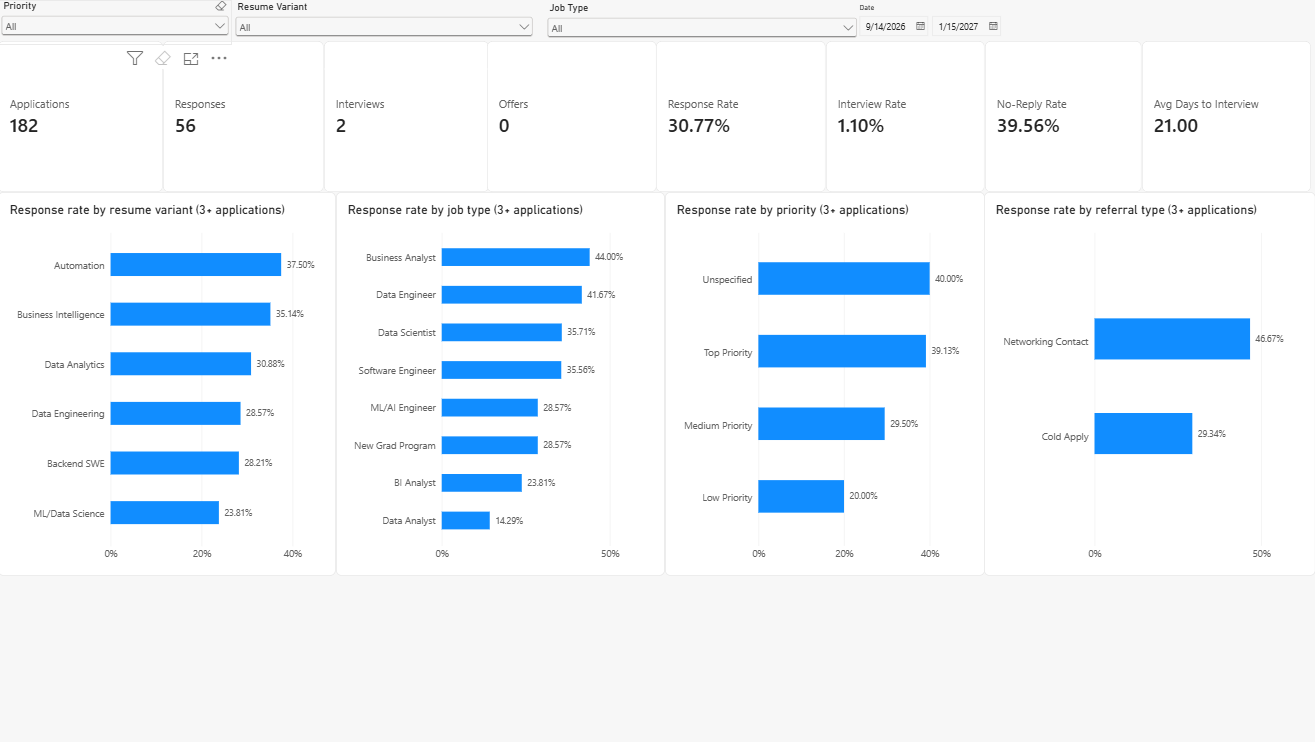

The page's visual inventory and layout, read from the dashboard file:
{"tool":"powerbi","page":{"name":"Performance","canvas":[1920,1080],"ordinal":1},"visuals":[{"type":"cardVisual","fields":{"Data":["fact_application.Applications"]},"box":[0,59.3,240.2,220.9],"z":0},{"type":"cardVisual","fields":{"Data":["fact_application.Avg Days to Interview"]},"box":[1666.5,59.3,246.1,220.9],"z":1000},{"type":"cardVisual","fields":{"Data":["fact_application.Responses"]},"box":[240.2,59.3,234.3,220.9],"z":2000},{"type":"cardVisual","fields":{"Data":["fact_application.Interviews"]},"box":[474.4,59.3,240.2,220.9],"z":3000},{"type":"cardVisual","fields":{"Data":["fact_application.Offers"]},"box":[711.7,59.3,247.6,220.9],"z":4000},{"type":"cardVisual","fields":{"Data":["fact_application.Response Rate"]},"box":[959.3,59.3,247.6,220.9],"z":5000},{"type":"cardVisual","fields":{"Data":["fact_application.Interview Rate"]},"box":[1206.9,59.3,231.3,220.9],"z":6000},{"type":"cardVisual","fields":{"Data":["fact_application.No-Reply Rate"]},"box":[1438.1,59.3,228.3,220.9],"z":7000},{"type":"slicer","fields":{"Values":["dim_priority.priority"]},"box":[0,0,341,65.2],"z":8000},{"type":"slicer","fields":{"Values":["dim_resume_variant.resume_variant"]},"box":[341,1.5,443.3,62.3],"z":9000},{"type":"slicer","fields":{"Values":["dim_job_type.job_type"]},"box":[794.7,3,461.1,62.3],"z":10000},{"type":"slicer","fields":{"Values":["dim_date.date"]},"box":[1246.9,4.4,665.7,54.9],"z":11000},{"type":"clusteredBarChart","title":"Response rate by resume variant (3+ applications)","fields":{"Category":["dim_resume_variant.resume_variant"],"Y":["fact_application.Response Rate"]},"box":[0,279.7,492.4,559.4],"z":12000},{"type":"clusteredBarChart","title":"Response rate by job type  (3+ applications)","fields":{"Category":["dim_job_type.job_type"],"Y":["fact_application.Response Rate"]},"box":[492.2,280.2,478.9,558.9],"z":13000},{"type":"clusteredBarChart","title":"Response rate by priority (3+ applications)","fields":{"Category":["dim_priority.priority"],"Y":["fact_application.Response Rate"]},"box":[971.1,280.2,465.5,558.9],"z":14000},{"type":"clusteredBarChart","title":"Response rate by referral type (3+ applications)","fields":{"Category":["fact_application.referral_type"],"Y":["fact_application.Response Rate"]},"box":[1436.7,280.2,483.3,558.9],"z":15000}]}

Visuals, with their boxes in screenshot pixels (x1, y1, x2, y2), scaled from the page's 1920x1080 canvas onto the 1315x742 screenshot:
cardVisual - fact_application.Applications: 0,41,165,193
cardVisual - fact_application.Avg Days to Interview: 1141,41,1310,193
cardVisual - fact_application.Responses: 165,41,325,193
cardVisual - fact_application.Interviews: 325,41,489,193
cardVisual - fact_application.Offers: 487,41,657,193
cardVisual - fact_application.Response Rate: 657,41,827,193
cardVisual - fact_application.Interview Rate: 827,41,985,193
cardVisual - fact_application.No-Reply Rate: 985,41,1141,193
slicer - dim_priority.priority: 0,0,234,45
slicer - dim_resume_variant.resume_variant: 234,1,537,44
slicer - dim_job_type.job_type: 544,2,860,45
slicer - dim_date.date: 854,3,1310,41
"Response rate by resume variant (3+ applications)" clusteredBarChart: 0,192,337,576
"Response rate by job type  (3+ applications)" clusteredBarChart: 337,193,665,576
"Response rate by priority (3+ applications)" clusteredBarChart: 665,193,984,576
"Response rate by referral type (3+ applications)" clusteredBarChart: 984,193,1314,576
